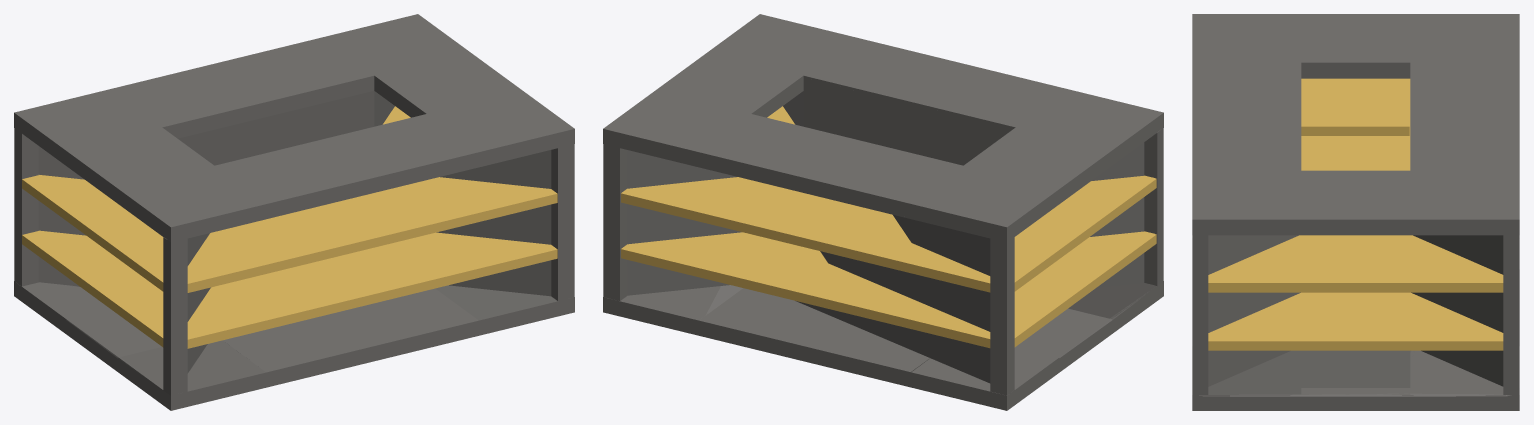
Rendered from ilot-kun.fbx.
3 renders of one model, left to right at view 1: azimuth 30°, elevation 25°; view 2: azimuth 150°, elevation 25°; view 3: azimuth 270°, elevation 25°, orthographic. The views are drawn at different scales.
Parts seen in each view (by area): view 1: Cube, Cube.003, Cube.002, Cube.001; view 2: Cube, Cube.002, Cube.003, Cube.001; view 3: Cube, Cube.002, Cube.003, Cube.001.
Boxes of the visible parts, <box> form: Cube: <box>14,14,574,410</box>; Cube.003: <box>22,230,557,348</box>; Cube.002: <box>22,106,557,292</box>; Cube.001: <box>14,128,574,395</box>; Cube: <box>603,14,1163,410</box>; Cube.002: <box>621,106,1156,292</box>; Cube.003: <box>621,231,1156,348</box>; Cube.001: <box>603,128,1163,395</box>; Cube: <box>1192,14,1519,410</box>; Cube.002: <box>1208,78,1503,292</box>; Cube.003: <box>1208,136,1503,350</box>; Cube.001: <box>1192,235,1519,394</box>.
Bounding box in the file's own units: 1574 × 679 × 1051.
